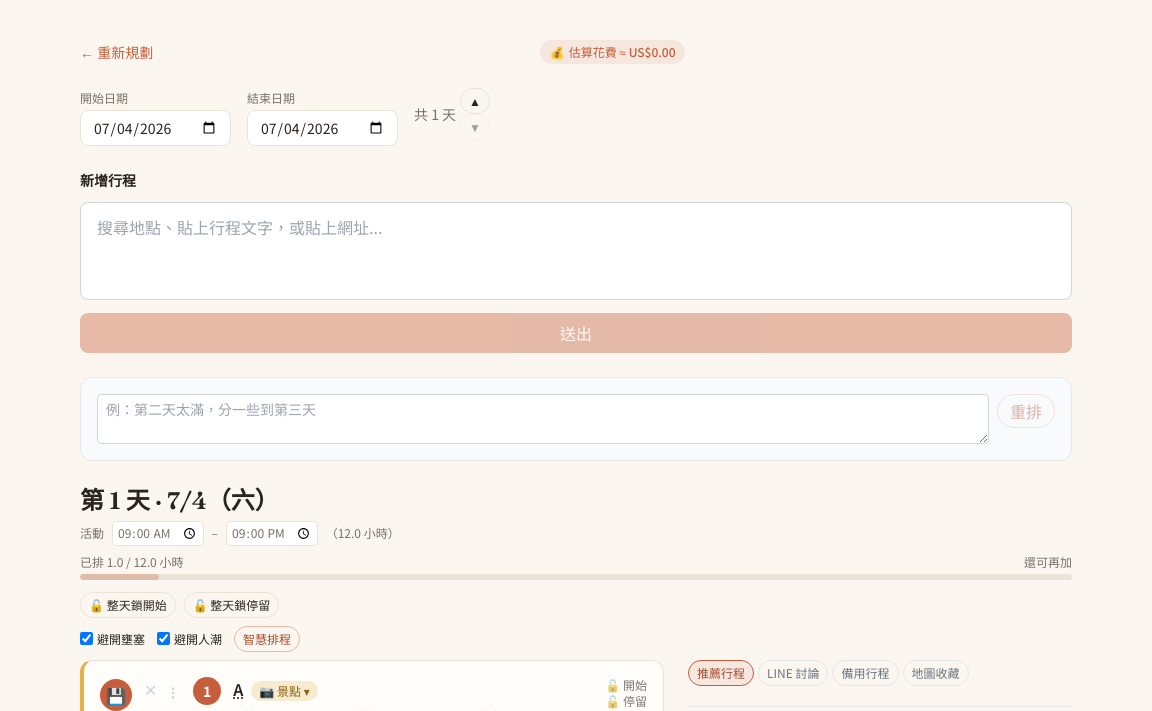
Test case: moves a LINE Bot candidate to reserve and removes it from LINE discussion
Click the button with test id "side-panel-tab-line".
click(793, 673)  # box [758,660,828,686]
(page scrolled)
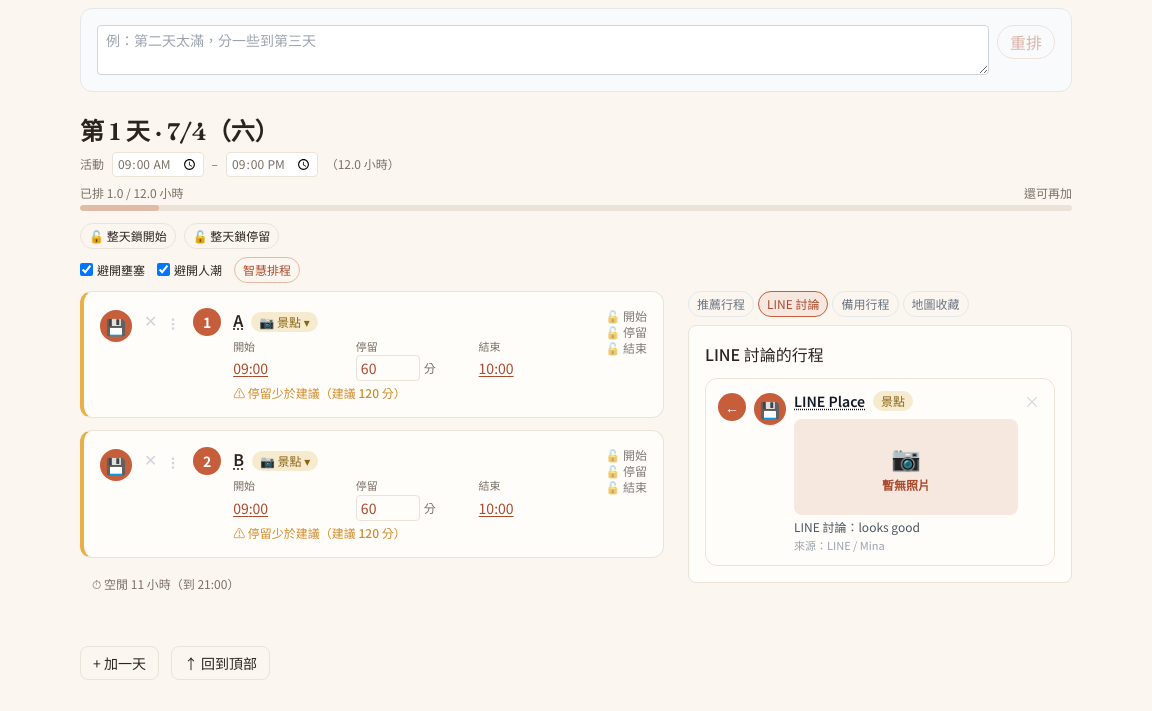
Click the button with test id "line-candidate-archive-c1".
click(770, 409)  # box [754,393,786,425]
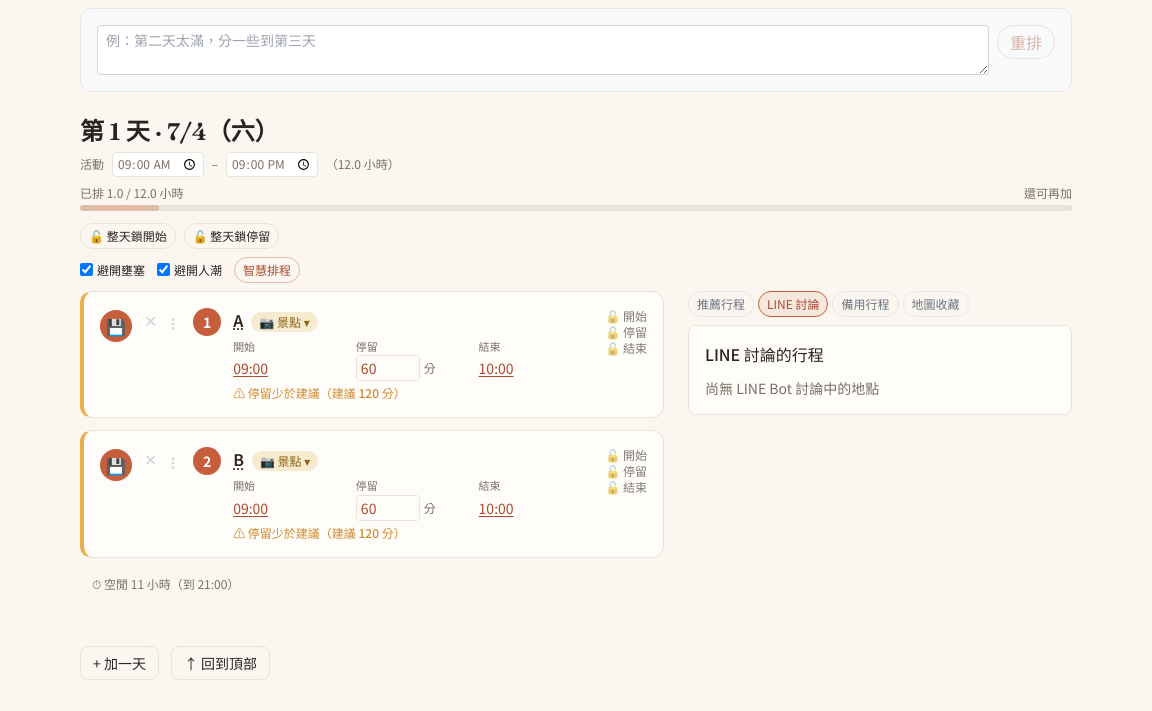
Expected: the list item with test id "line-candidate-card-c1" is gone
Click the button with test id "side-panel-tab-reserve".
click(866, 304)  # box [832,291,898,317]
(page scrolled)
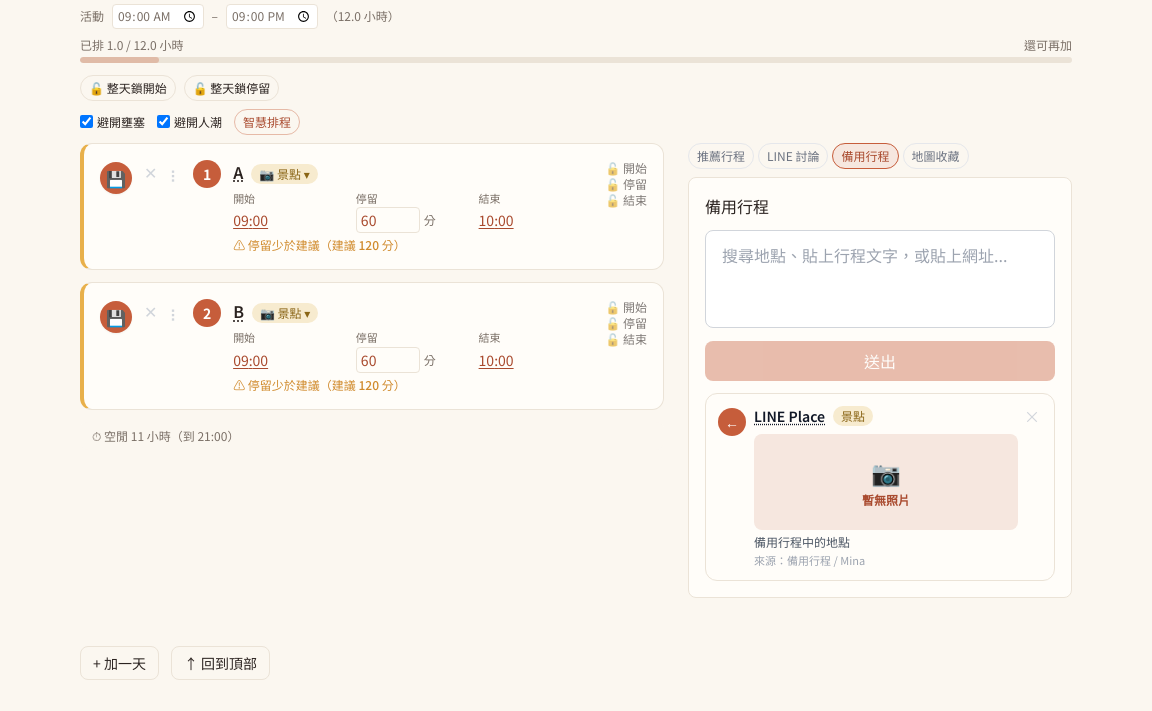
Expected: the list item with test id "reserve-card-c1" is shown, [705,393,1055,581]
